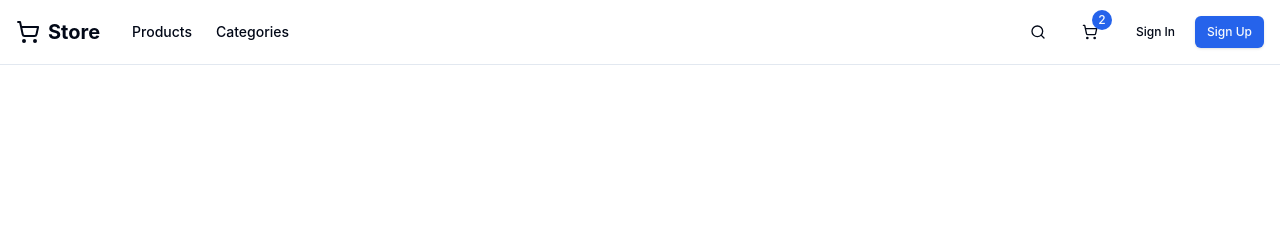
Test: Navigation - Search Autocomplete › should clear search query after clicking result
This screenshot has width=1280, height=226.
Click the button named "Search products".
click(1038, 32)  # box [1020,14,1056,50]
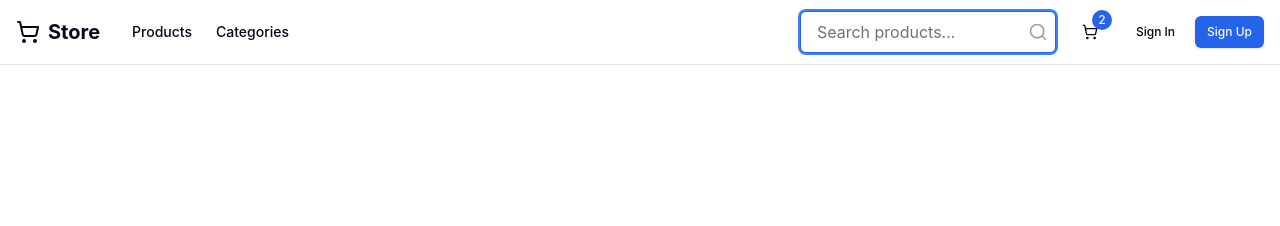
Type "wireless" into the field with test id "search-input".
click(928, 32); type("wireless")  # box [800,11,1056,53]
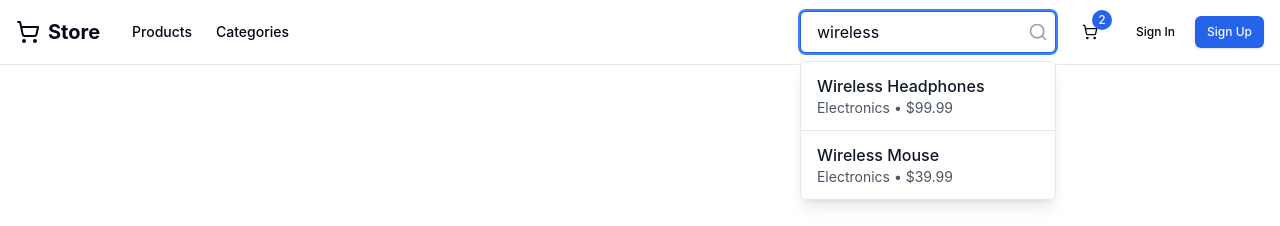
Result: the button with test id "search-result-1" is shown
Click the button with test id "search-result-1".
click(928, 96)  # box [801,62,1055,131]
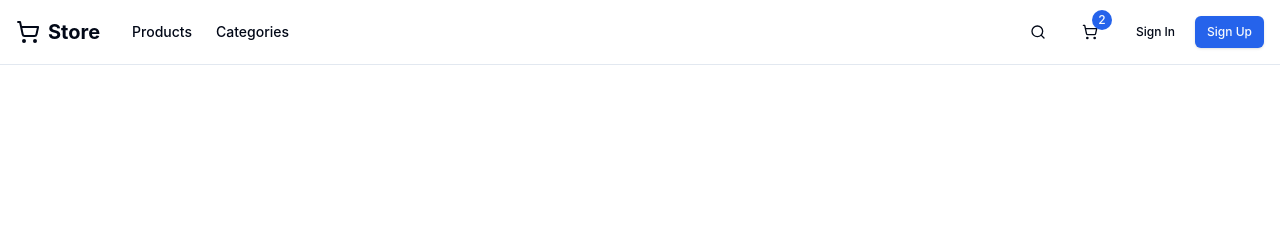
Result: the field with test id "search-input" is gone
